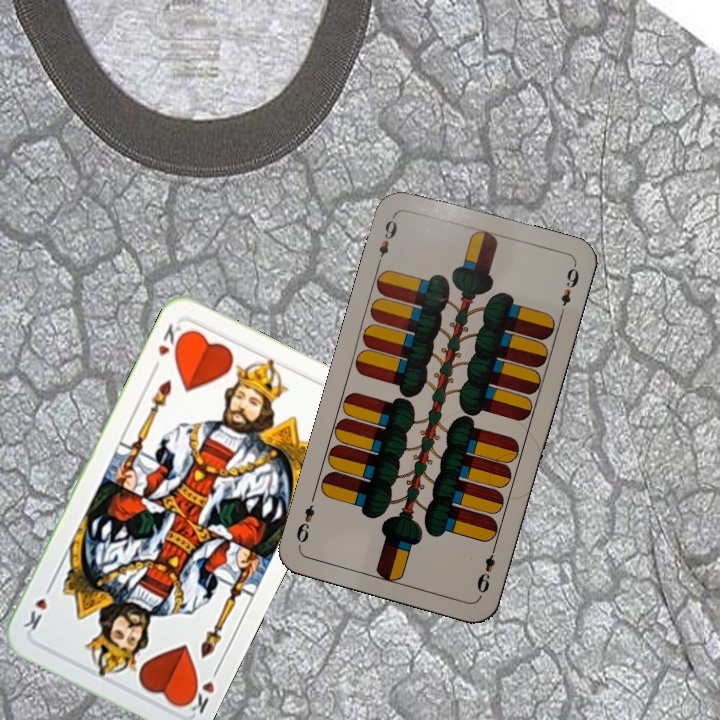E9: (373, 211, 400, 268), (473, 541, 499, 599)
HK: (180, 662, 223, 717), (148, 319, 189, 374)
